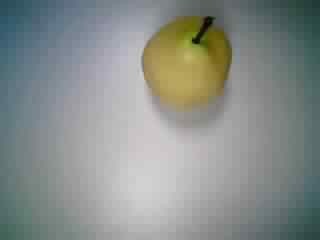pear: (126, 10, 235, 112)
